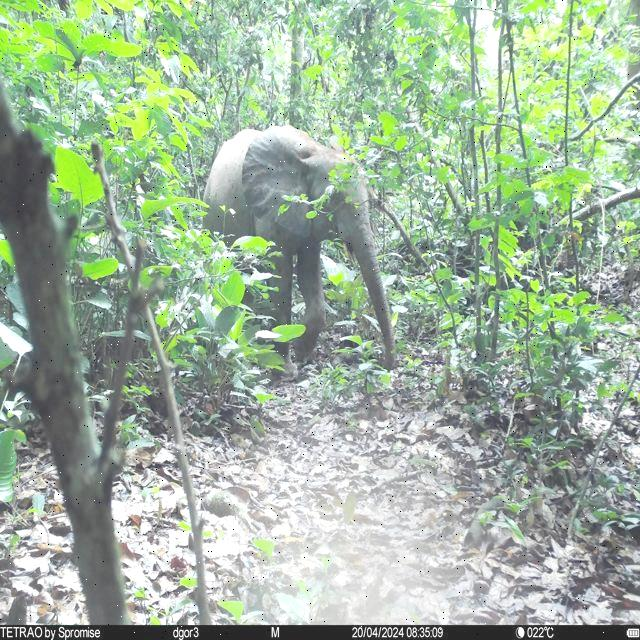ear: (242, 125, 310, 238)
elephant: (199, 124, 399, 374)
tusk: (340, 242, 350, 260)
